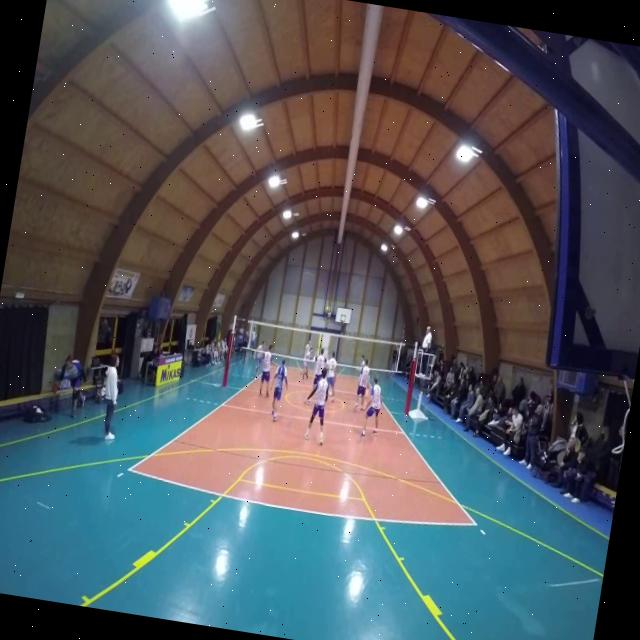Volleyball: (324, 305, 332, 318)
